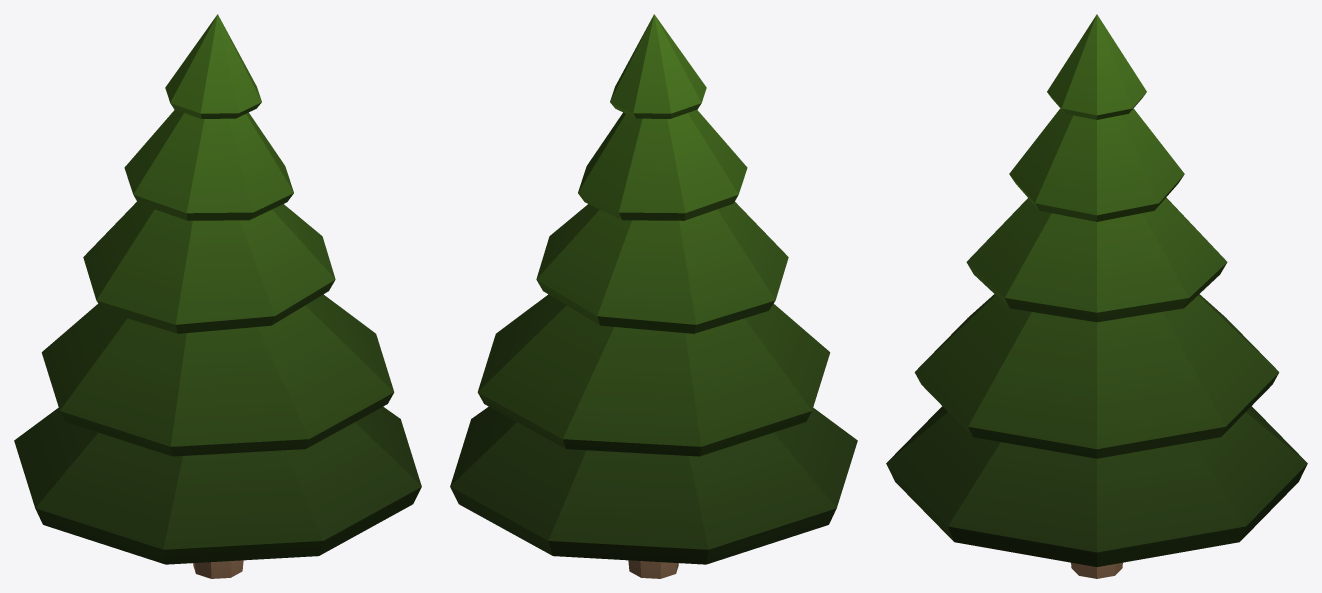
The model's file is Tree02.fbx.
3 views of the same model, side by side, from view 1: azimuth 30°, elevation 25°; view 2: azimuth 150°, elevation 25°; view 3: azimuth 270°, elevation 25° (orthographic).
Parts seen in each view (by area): view 1: Tree02; view 2: Tree02; view 3: Tree02.
Boxes of the visible parts, <box> form: Tree02: <box>14,14,421,578</box>; Tree02: <box>450,14,857,578</box>; Tree02: <box>886,14,1307,578</box>.
Bounding box in the file's own units: 2.52 × 3.65 × 2.52.
Materials: 1 (1 with a texture image).
